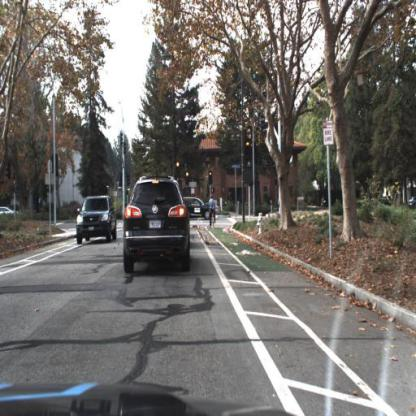biker: (209, 196, 216, 228)
car: (123, 175, 193, 274), (77, 194, 118, 249), (183, 196, 217, 220), (182, 196, 211, 220)
trafficLight-Red: (244, 138, 252, 162), (245, 136, 253, 160), (175, 159, 181, 175), (186, 170, 191, 186), (209, 170, 214, 184)
